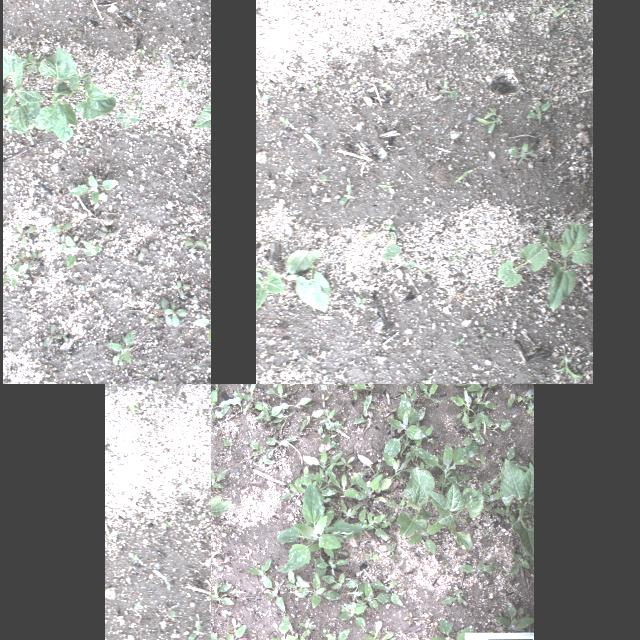crop: (497, 220, 593, 312), (276, 482, 368, 576), (32, 46, 116, 146), (255, 248, 331, 312), (2, 46, 44, 144), (425, 482, 483, 550), (500, 447, 532, 559), (396, 466, 434, 536), (190, 69, 211, 164), (211, 477, 233, 525), (382, 243, 416, 267)
weed: (412, 440, 478, 502), (450, 388, 512, 444), (380, 391, 426, 461), (244, 558, 284, 612), (372, 452, 418, 492), (289, 572, 339, 608), (67, 173, 116, 205), (320, 468, 366, 502), (346, 580, 394, 612), (3, 250, 42, 288), (302, 448, 342, 482), (353, 508, 395, 540), (493, 599, 533, 631), (406, 523, 444, 555), (425, 615, 473, 640), (352, 472, 388, 502), (114, 90, 142, 128), (151, 297, 189, 325), (349, 384, 380, 417), (453, 384, 506, 403), (108, 330, 136, 364), (259, 436, 297, 460), (473, 106, 503, 134), (265, 613, 295, 640), (508, 543, 530, 579), (554, 354, 584, 380), (507, 140, 539, 164), (320, 418, 344, 449), (270, 406, 296, 434), (211, 581, 233, 612), (179, 232, 211, 253), (430, 79, 460, 101), (59, 234, 77, 270), (322, 572, 362, 588), (526, 100, 552, 124), (265, 384, 297, 403), (10, 222, 36, 245), (211, 623, 245, 640), (300, 408, 324, 432), (248, 440, 274, 462), (363, 621, 393, 640), (40, 325, 68, 345), (458, 560, 494, 574), (195, 311, 211, 342), (545, 2, 569, 22), (317, 626, 350, 640), (278, 396, 316, 408), (150, 567, 170, 589), (302, 131, 321, 153), (241, 384, 254, 415), (448, 244, 470, 262), (122, 394, 140, 416), (186, 619, 203, 640), (418, 384, 439, 401), (338, 183, 354, 205), (47, 220, 71, 234), (81, 240, 101, 256), (453, 168, 473, 184), (439, 589, 461, 603), (211, 469, 227, 487), (24, 53, 38, 73), (334, 456, 354, 470), (166, 77, 188, 89), (316, 560, 348, 568), (377, 183, 398, 194), (98, 224, 112, 240), (211, 384, 224, 401), (175, 280, 189, 294), (478, 326, 492, 340), (148, 48, 160, 64), (355, 294, 367, 310), (456, 28, 470, 40), (418, 373, 433, 384), (472, 8, 488, 18), (420, 262, 430, 278), (148, 374, 163, 384), (135, 101, 147, 113), (277, 114, 289, 126), (126, 550, 138, 562), (203, 281, 211, 296), (76, 143, 90, 151), (136, 46, 146, 56), (283, 164, 293, 174), (385, 220, 395, 230), (132, 600, 142, 610), (70, 26, 82, 34), (147, 316, 159, 324), (454, 337, 466, 345), (160, 519, 172, 527), (312, 83, 322, 91), (136, 250, 142, 262), (348, 75, 357, 83), (197, 511, 206, 519), (162, 58, 170, 66), (159, 103, 165, 113), (149, 128, 159, 134), (490, 247, 496, 257), (318, 40, 328, 46), (167, 476, 177, 482), (132, 288, 136, 302), (539, 220, 547, 226), (474, 282, 482, 288), (128, 66, 132, 76), (192, 364, 198, 370), (36, 274, 42, 280), (28, 37, 36, 41), (330, 80, 338, 84), (180, 516, 187, 520), (154, 290, 160, 294), (136, 6, 140, 12), (111, 379, 117, 383), (32, 236, 38, 240), (209, 159, 211, 165)
